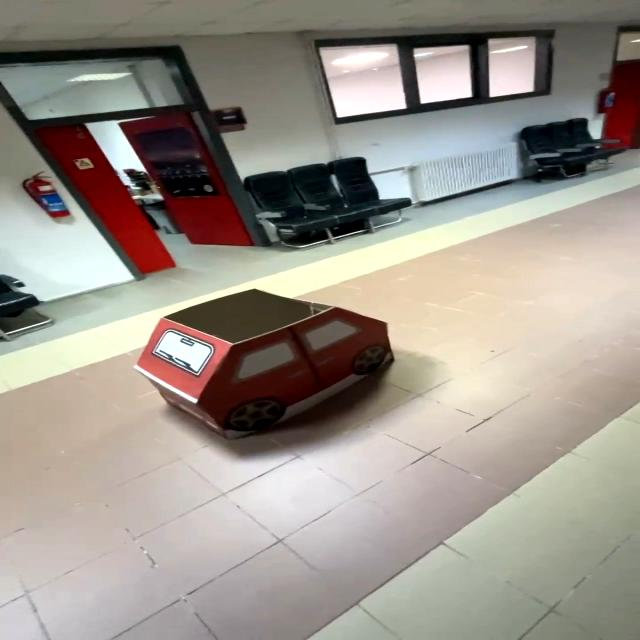red_car: (105, 280, 435, 452)
